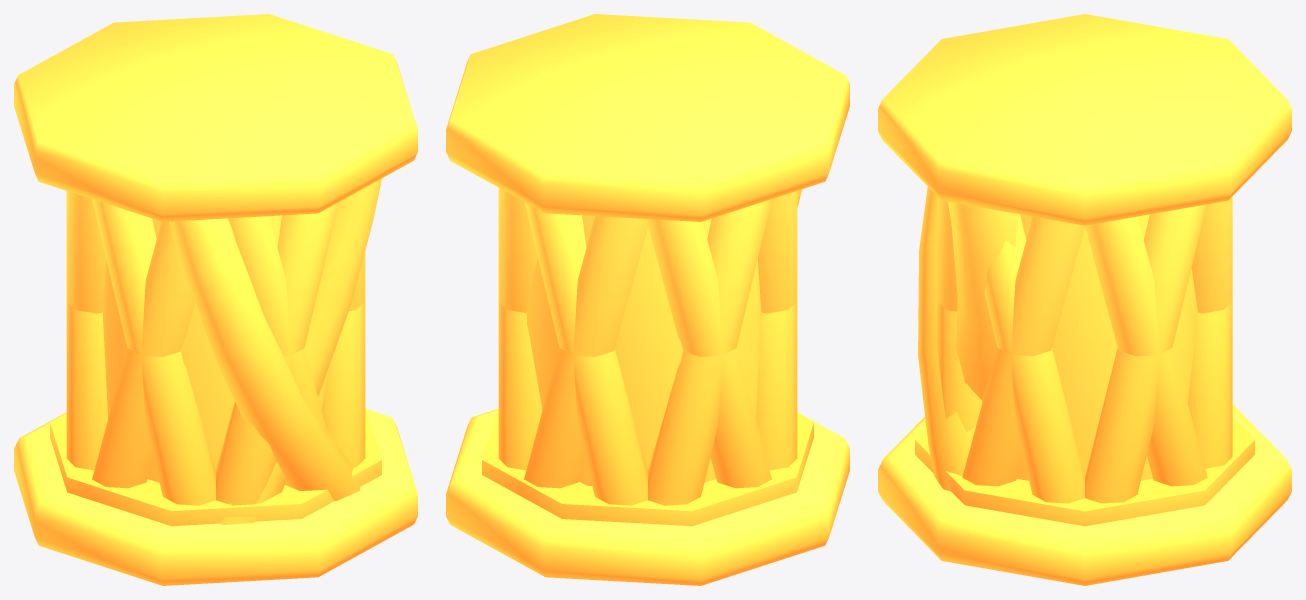
File: gold_grip_010.glb
The picture shows the model from 3 angles, left to right: view 1: azimuth 30°, elevation 25°; view 2: azimuth 150°, elevation 25°; view 3: azimuth 270°, elevation 25°; orthographic projection.
Parts seen in each view (by area): view 1: gold_grip_010; view 2: gold_grip_010; view 3: gold_grip_010.
Part boxes in pixels (x1,y1,x2,y2): gold_grip_010: (14,14,417,585); gold_grip_010: (446,14,849,585); gold_grip_010: (878,14,1291,585).
Bounding box in the file's own units: 2.89 × 3.17 × 2.89.
1 material, 1 textured.
